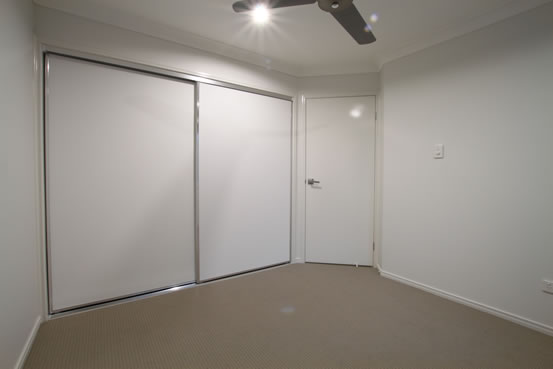ceiling fan: (218, 1, 395, 44)
